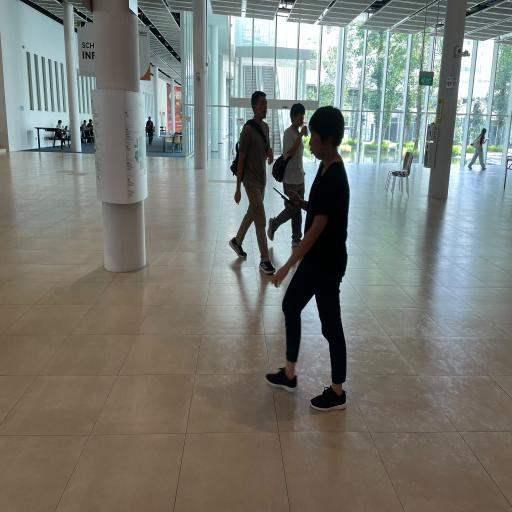person_left: (266, 106, 350, 411)
person_right: (230, 88, 276, 282), (275, 80, 308, 244), (468, 124, 490, 177)
